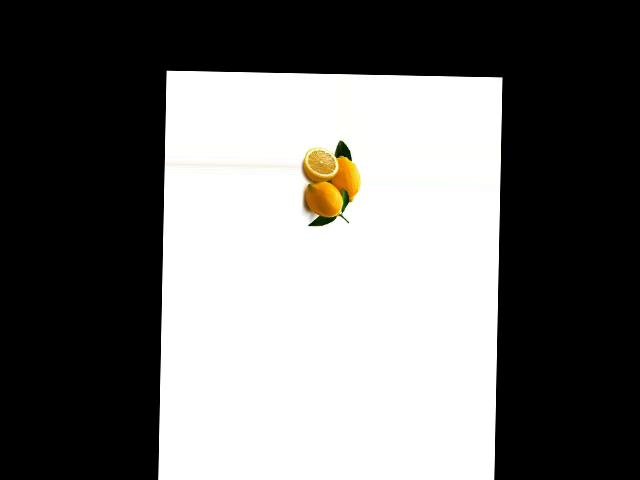lemon: (326, 157, 362, 204)
